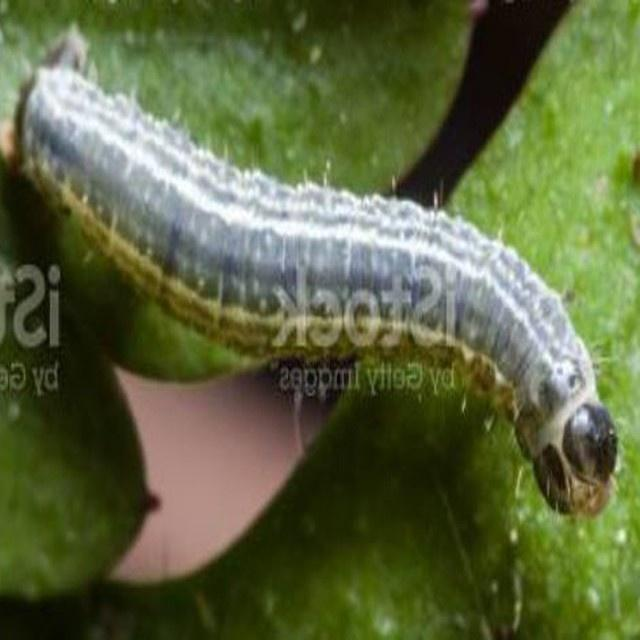Plaga: (21, 74, 618, 512)
